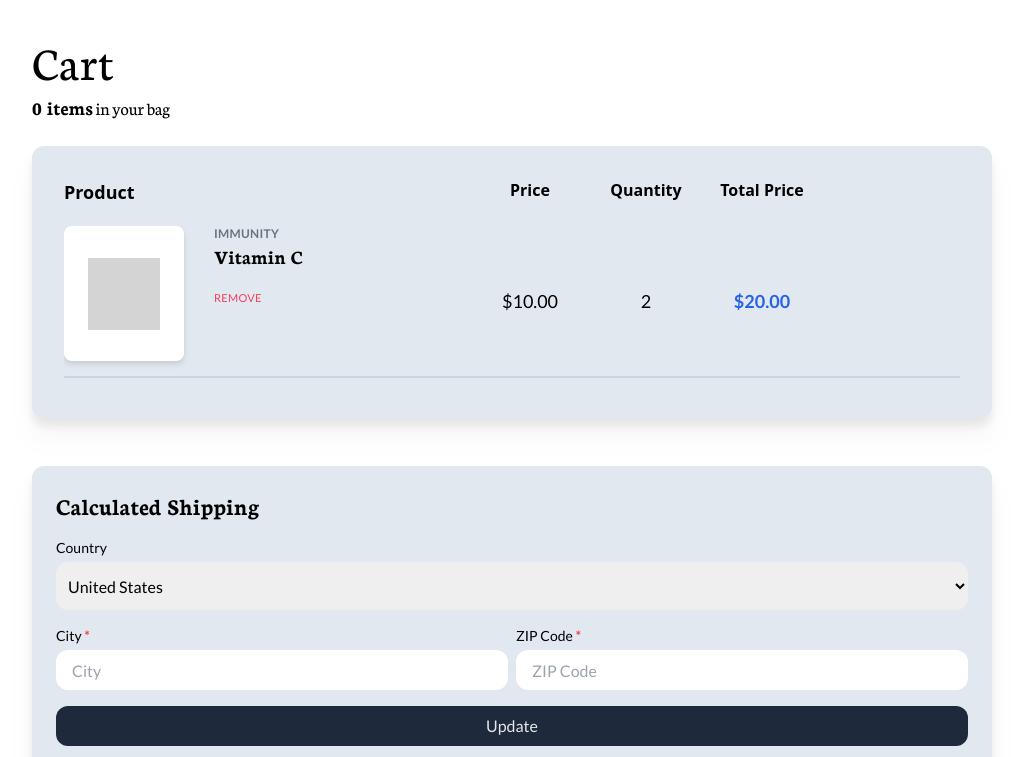
Test: CartPage shipping › keeps the submitted address visible and lets the user change it
Select "Germany" in the dropdown at (512, 586), box [56,562,968,610]
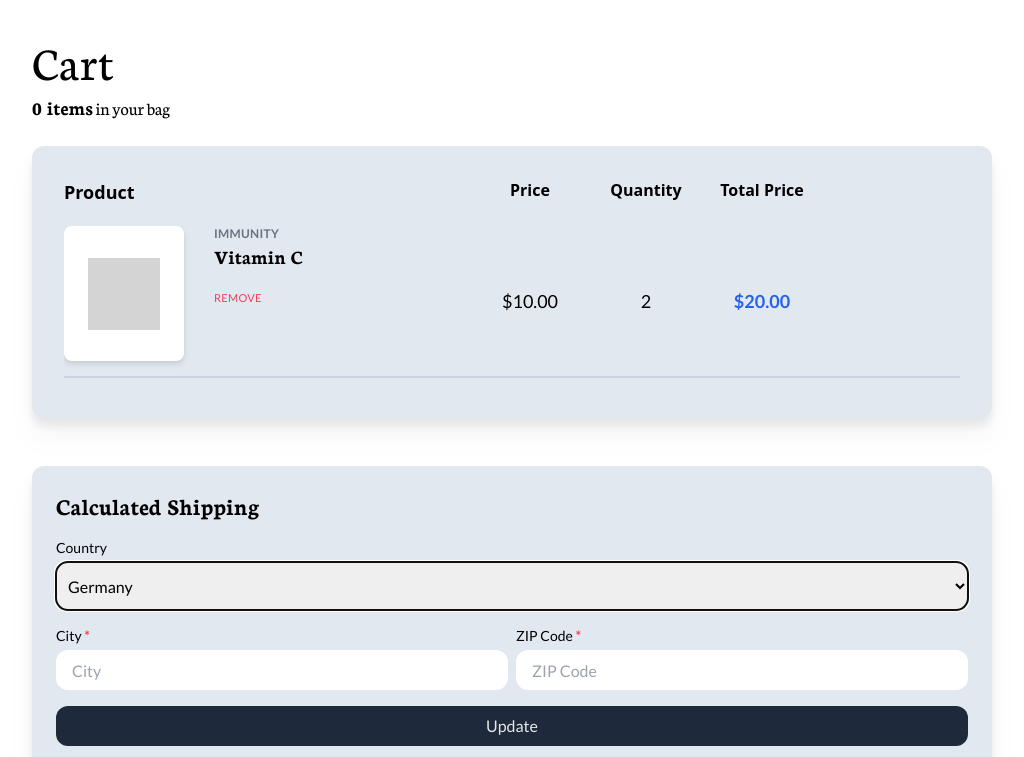
Type "Berlin" into the field with placeholder "City" at (282, 670), box [56,650,508,690]
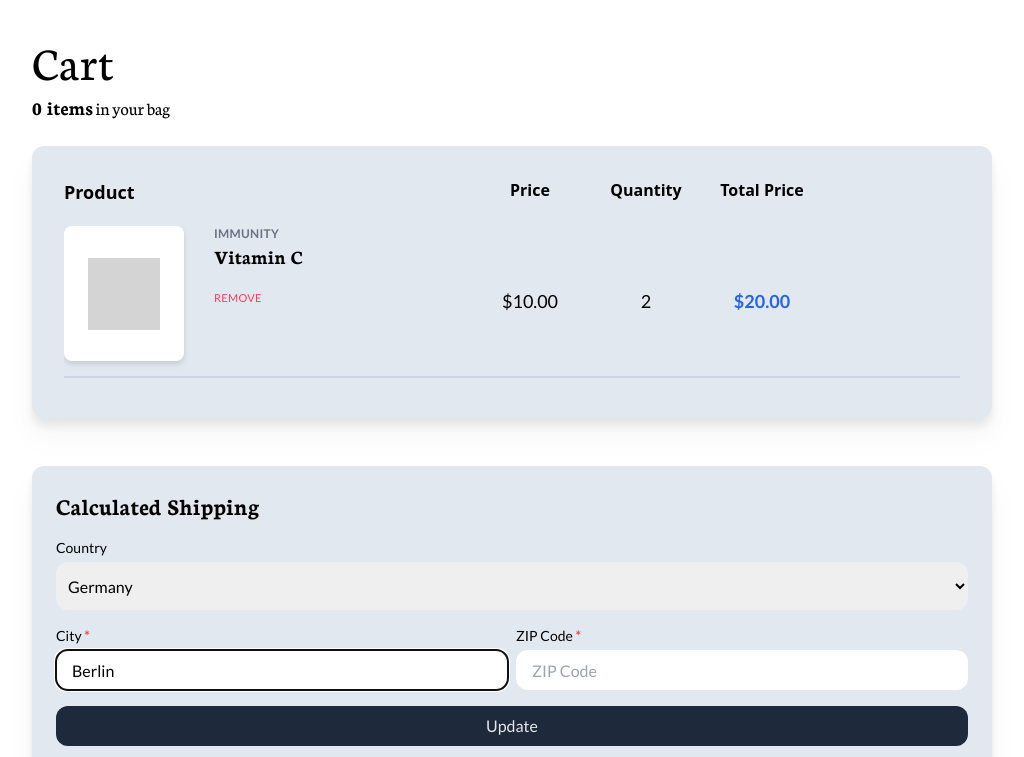
Type "10115" into the field with placeholder "ZIP Code" at (742, 670), box [516,650,968,690]
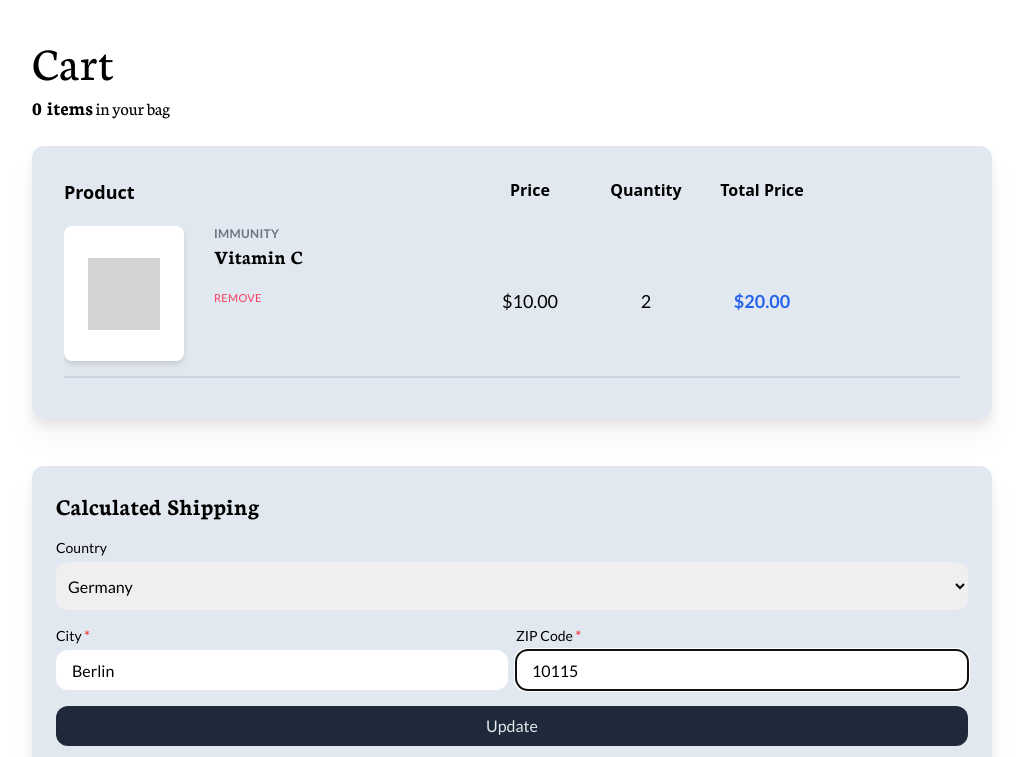
Click the button "Update" at (512, 726), box [56,706,968,746]
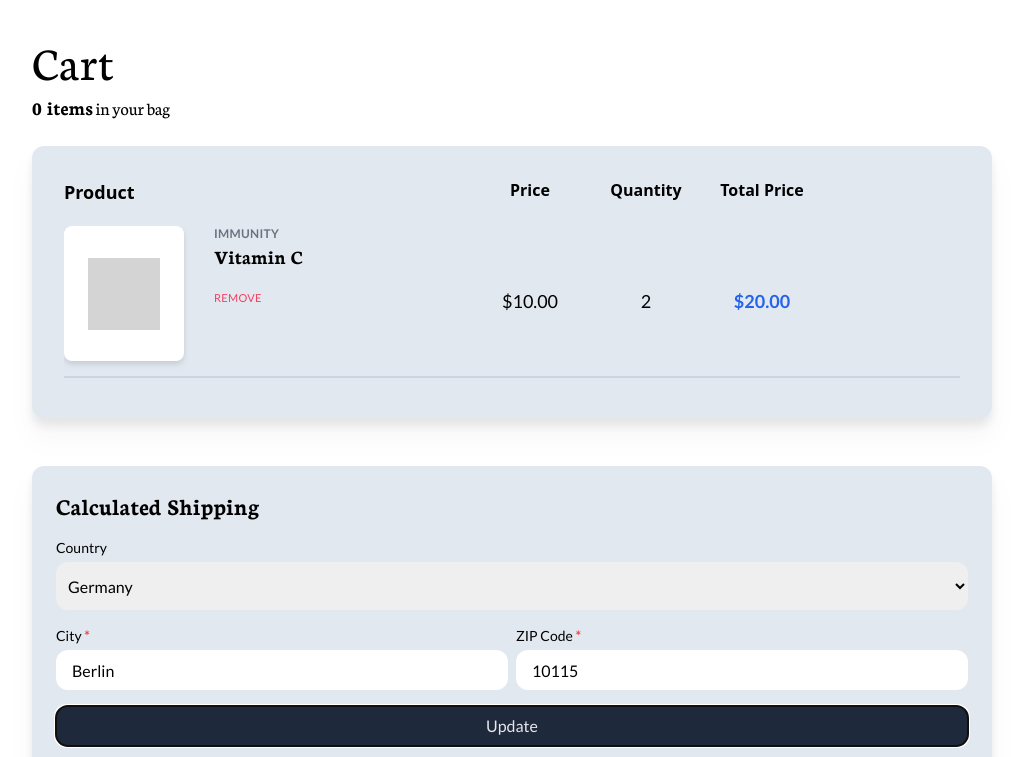
Select "United States" in the dropdown at (512, 586), box [56,562,968,610]
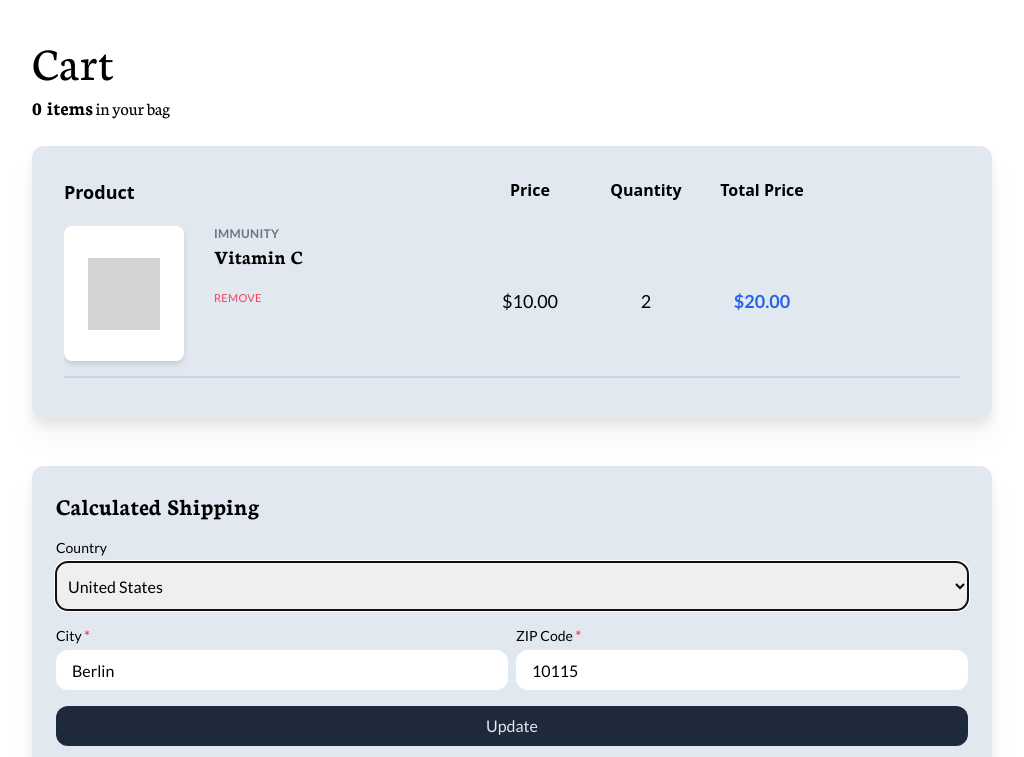
Click the button "Update" at (512, 726), box [56,706,968,746]
(page scrolled)
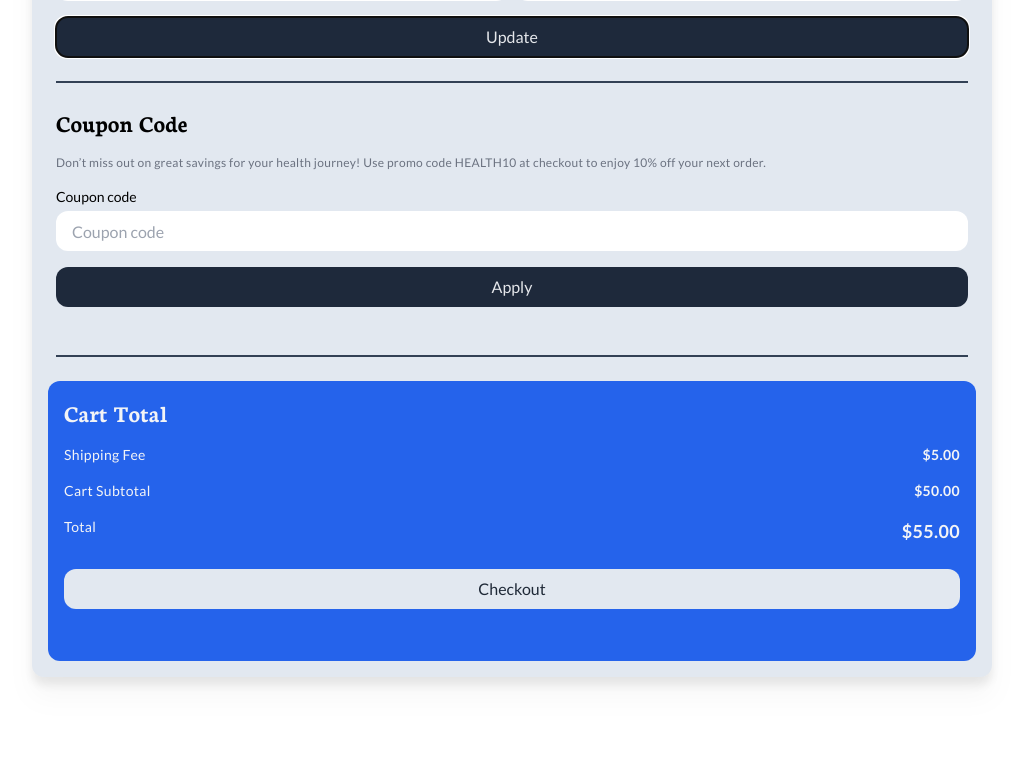
Expected: the text "$5.00" is shown, [923,445,960,465]
